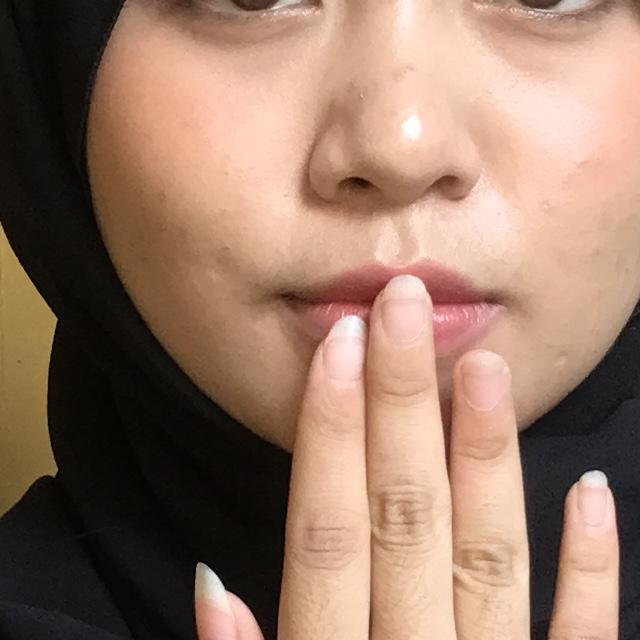ganteng: (190, 246, 640, 640)
